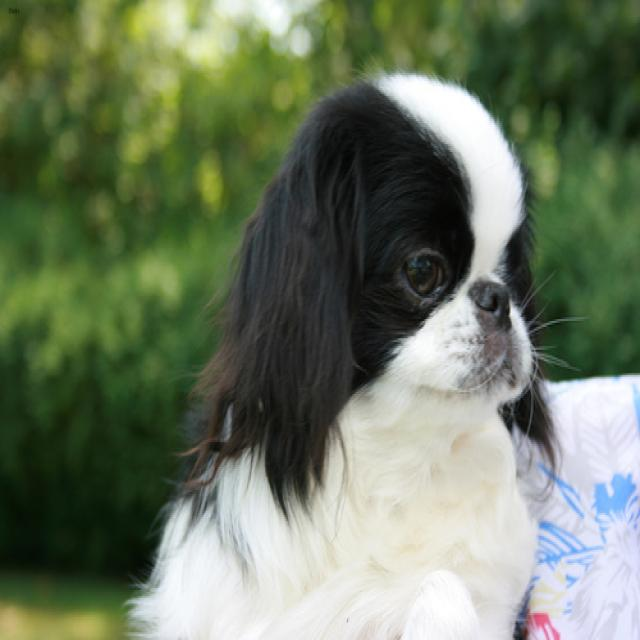dog-japanese_chin: (118, 52, 580, 636)
